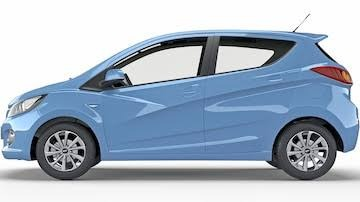car: (2, 27, 360, 182)
